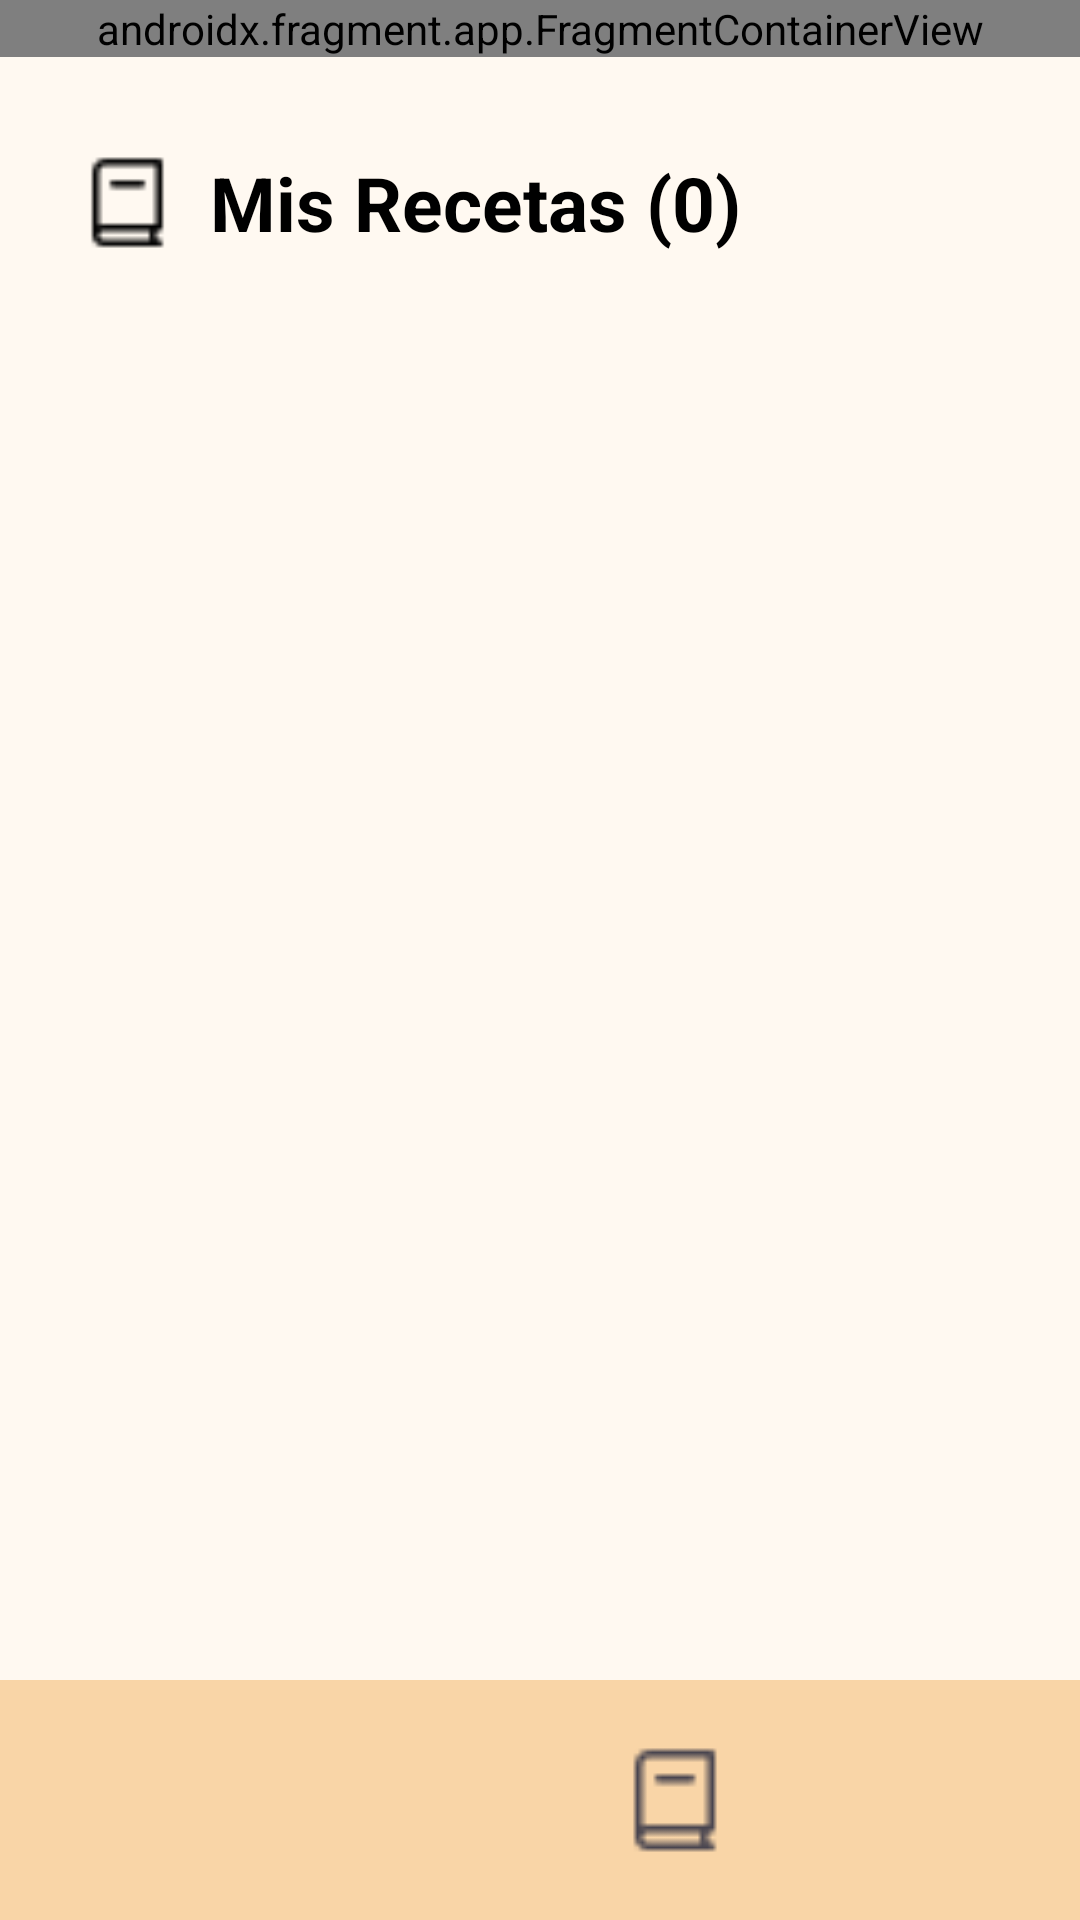

Screen size 1080px×1920px. Icon name, then its center in pixels as (x=x, y=y):
libro: (x=127, y=202)
